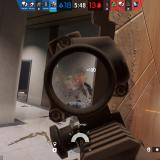Character: (56, 81, 93, 126)
